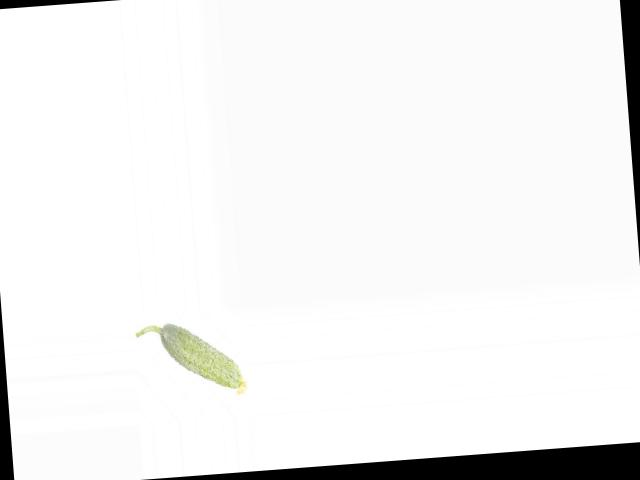cucumber: (136, 317, 248, 403)
